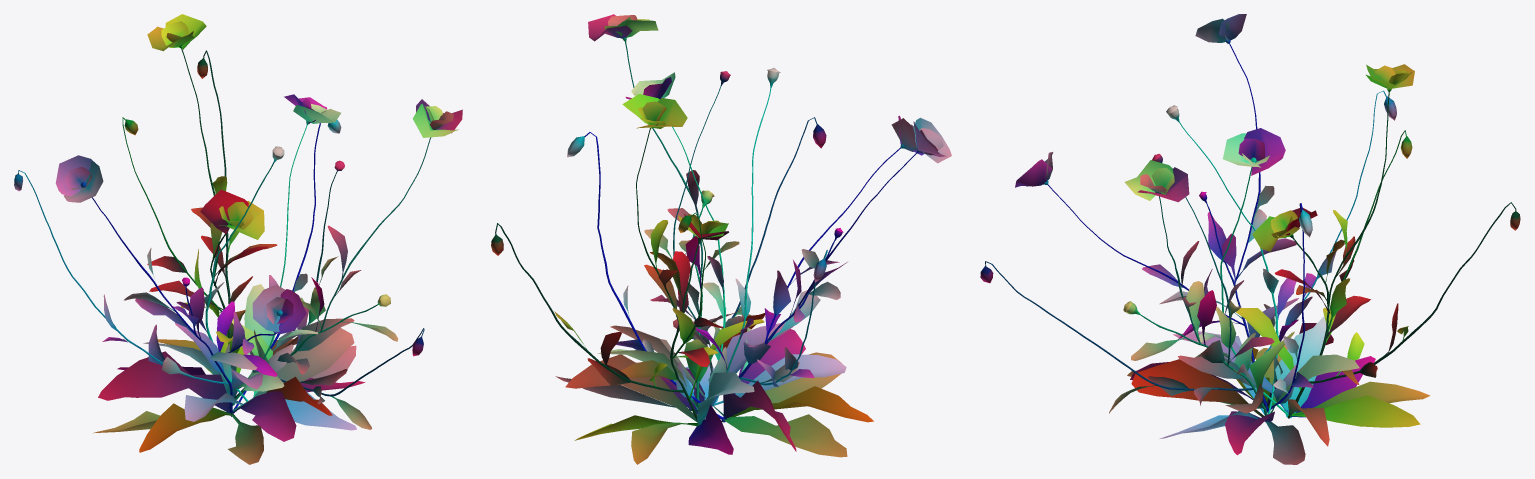
File: Field_Poppy_vmcobd0ja_Mid_vmcobd0ja_VarC_LOD0.fbx
The picture shows the model from 3 angles, left to right: view 1: azimuth 30°, elevation 25°; view 2: azimuth 150°, elevation 25°; view 3: azimuth 270°, elevation 25°; orthographic projection. The views are drawn at different scales.
Visible parts, largest first — view 1: _4avw_VarC_LOD1; view 2: _4avw_VarC_LOD1; view 3: _4avw_VarC_LOD1.
Part boxes in pixels (x1,y1,x2,y2): _4avw_VarC_LOD1: [14, 14, 462, 464]; _4avw_VarC_LOD1: [491, 14, 951, 464]; _4avw_VarC_LOD1: [980, 14, 1520, 464].
Bounding box in the file's own units: 78.22 × 69.34 × 97.05.
